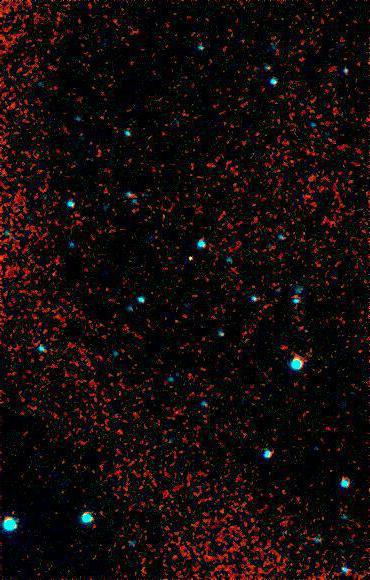star: (176, 244, 206, 274)
